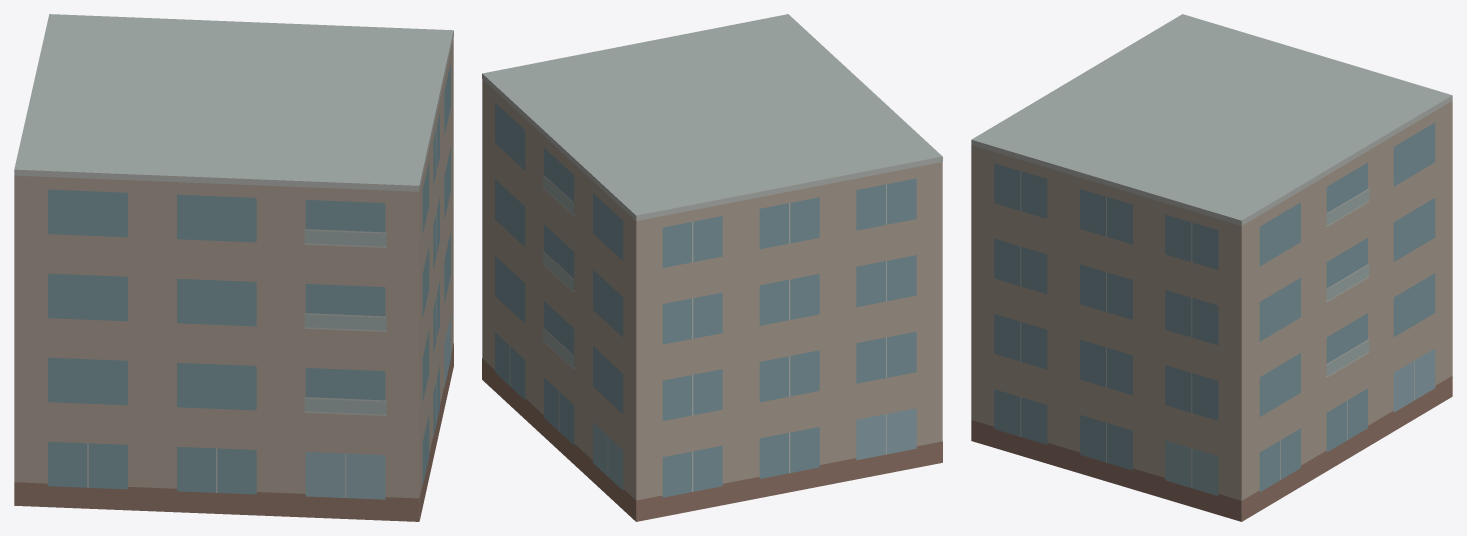
The model's file is survey-upis-32718562.glb.
3 renders of one model, left to right at view 1: azimuth 30°, elevation 25°; view 2: azimuth 150°, elevation 25°; view 3: azimuth 270°, elevation 25°, orthographic. The views are drawn at different scales.
Parts seen in each view (by area): view 1: survey-upis-32718562.tmp; view 2: survey-upis-32718562.tmp; view 3: survey-upis-32718562.tmp.
Part boxes in pixels (x1,y1,x2,y2): survey-upis-32718562.tmp: (14,14,453,521); survey-upis-32718562.tmp: (482,14,942,521); survey-upis-32718562.tmp: (971,14,1452,521).
Size of the model in its own units: 20.15 by 13.69 by 19.84.
